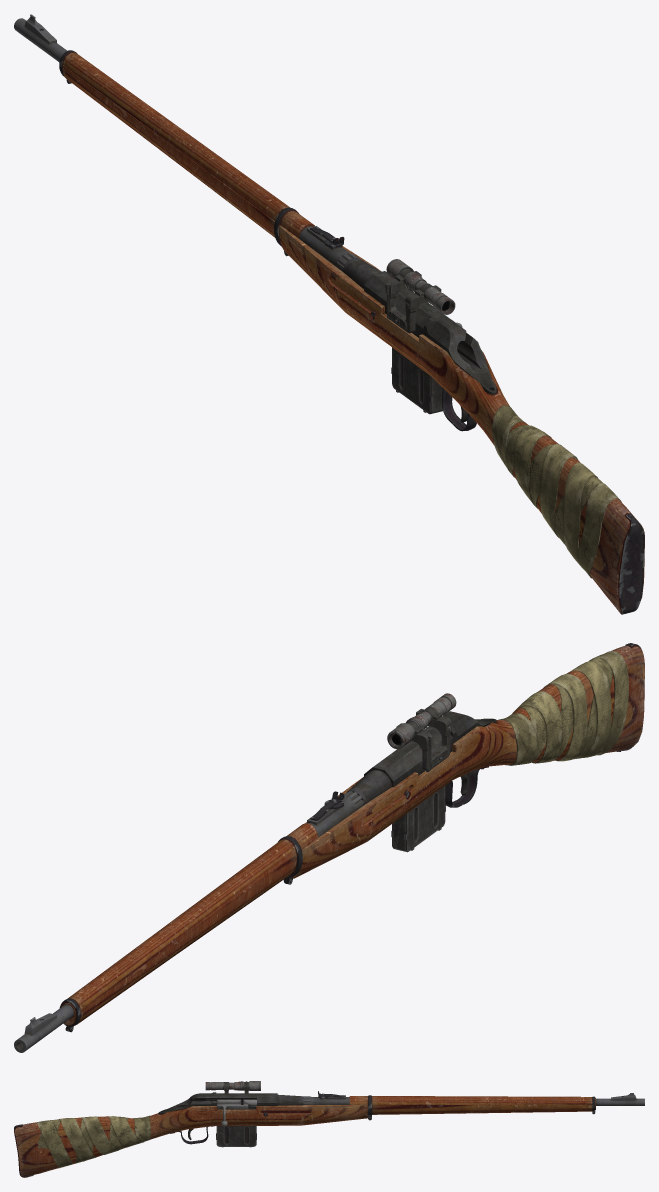
Rendered from dmr.glb.
The picture shows the model from 3 angles, top to bottom: view 1: azimuth 30°, elevation 25°; view 2: azimuth 150°, elevation 25°; view 3: azimuth 270°, elevation 25°; orthographic projection. The views are drawn at different scales.
Visible parts, largest first — view 1: dmr; view 2: dmr; view 3: dmr.
Part boxes in pixels (x1,y1,x2,y2): dmr: [14, 14, 644, 614]; dmr: [14, 643, 644, 1052]; dmr: [14, 1081, 644, 1177].
Size of the model in its own units: 0.0622 by 0.1911 by 1.15.
3 materials, 3 textured.
